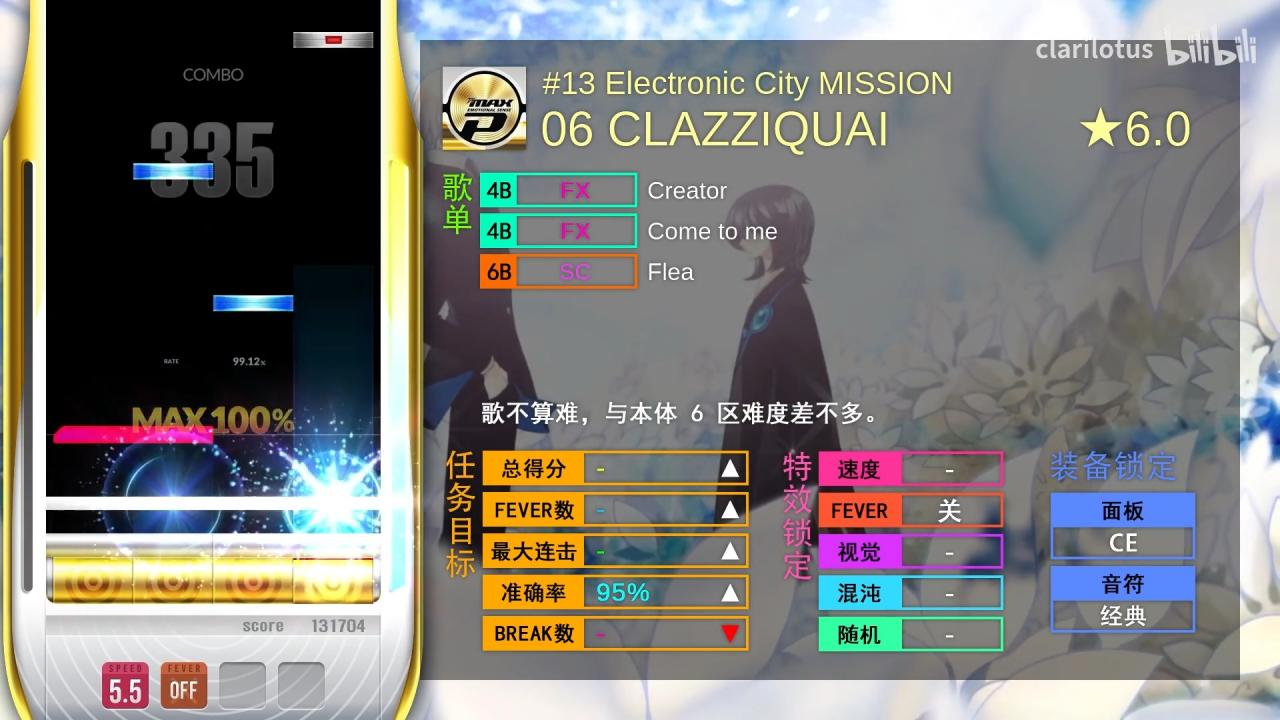note: (293, 31, 374, 48), (213, 295, 294, 312), (134, 163, 214, 180)
xnote: (54, 426, 213, 443)
